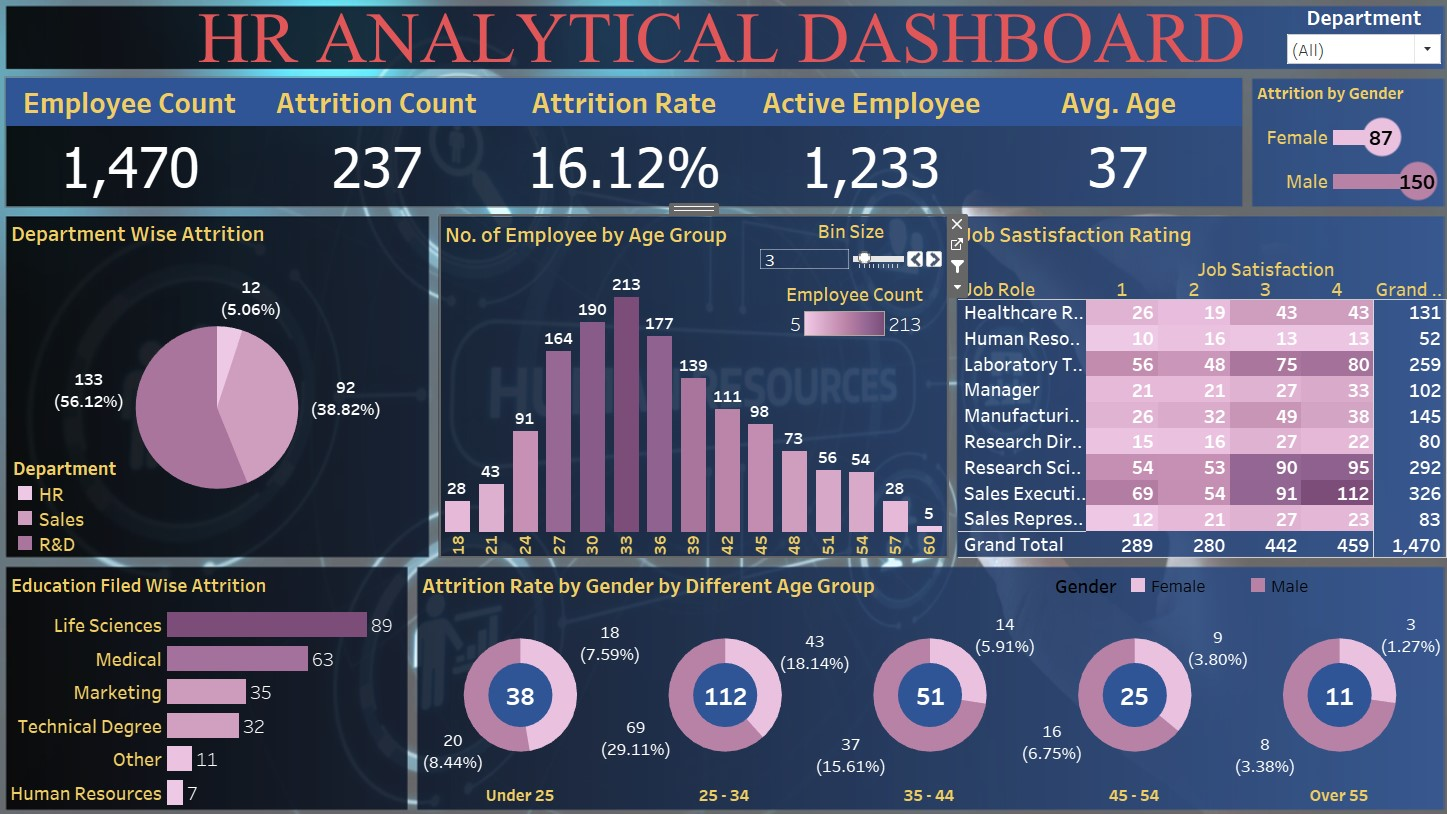

The page's visual inventory and layout, read from the dashboard file:
{"tool":"tableau","page":{"name":"HR Analytics Dashboard","canvas":[1000,1000],"units":"permille","ordinal":0},"visuals":[{"type":"image","param":"Image/HR background.pptx.png","box":[5.2,9.5,989.7,981]},{"type":"filter","title":"Department Wise Attrition","param":"[federated.05d4qr10fj6lfu1ddp616001y1a2].[none:Department:nk]","box":[860.6,17.9,103.2,76.2]},{"type":"text","box":[33.5,23.8,928.4,70.2]},{"type":"worksheet","title":"KPI","mark":"Automatic","box":[36.1,107.1,797.4,152.4]},{"type":"worksheet","title":"Attribution by Gender","mark":"Automatic","rows":["Gender"],"cols":["Calculation_688769285101289472","Calculation_688769285101289472"],"box":[840.6,107.1,121.9,148.8]},{"type":"worksheet","title":"Department Wise Attrition","mark":"Pie","box":[36.8,270.2,271,407.1]},{"type":"worksheet","title":"No. of Employee by Age Group","mark":"Automatic","rows":["Employee Count"],"cols":["Age (bin)"],"box":[316.8,271.4,326.4,404.8]},{"type":"worksheet","title":"Job Sastisfaction Rating","mark":"Square","rows":["Job Role"],"cols":["Job Satisfaction"],"box":[650.3,271.4,314.8,407.1]},{"type":"parameter","param":"[Parameters].[Parameter 1]","box":[520.6,273.8,121.3,66.7]},{"type":"legend","title":"No. of Employee by Age Group","param":"[federated.05d4qr10fj6lfu1ddp616001y1a2].[sum:Employee Count:qk]","box":[539.4,348.8,90.3,77.4]},{"type":"legend","title":"Department Wise Attrition","param":"[federated.05d4qr10fj6lfu1ddp616001y1a2].[none:Department:nk]","box":[40.6,556,90.3,120.2]},{"type":"worksheet","title":"Attrition Rate by Gender by Different Age Group","mark":"Pie","rows":["Calculation_1037235306553081859","Calculation_1037235306553081859"],"cols":["CF_age band"],"box":[301.9,689.3,660.6,285.7]},{"type":"worksheet","title":"Education Filed Wise Attrition","mark":"Automatic","rows":["Education Field"],"cols":["Calculation_688769285101289472"],"box":[36.8,690.5,258.1,286.9]},{"type":"legend","title":"Attrition Rate by Gender by Different Age Group","param":"[federated.05d4qr10fj6lfu1ddp616001y1a2].[none:Gender:nk]","box":[712.9,697.6,216.8,42.9]}]}

Visuals, with their boxes on the dashboard's canvas, which has no fixed pixel size, in thousandths of its width and height (x1, y1, x2, y2). These are canvas units, not pixel positions in the 1447x814 screenshot, which may show the page scaled, cropped or inside an application window:
image: (x1=5, y1=10, x2=995, y2=990)
"Department Wise Attrition" filter: (x1=861, y1=18, x2=964, y2=94)
text: (x1=34, y1=24, x2=962, y2=94)
"KPI" worksheet: (x1=36, y1=107, x2=834, y2=260)
"Attribution by Gender" worksheet: (x1=841, y1=107, x2=962, y2=256)
"Department Wise Attrition" worksheet (Pie marks): (x1=37, y1=270, x2=308, y2=677)
"No. of Employee by Age Group" worksheet: (x1=317, y1=271, x2=643, y2=676)
"Job Sastisfaction Rating" worksheet (Square marks): (x1=650, y1=271, x2=965, y2=678)
parameter: (x1=521, y1=274, x2=642, y2=340)
"No. of Employee by Age Group" legend: (x1=539, y1=349, x2=630, y2=426)
"Department Wise Attrition" legend: (x1=41, y1=556, x2=131, y2=676)
"Attrition Rate by Gender by Different Age Group" worksheet (Pie marks): (x1=302, y1=689, x2=962, y2=975)
"Education Filed Wise Attrition" worksheet: (x1=37, y1=690, x2=295, y2=977)
"Attrition Rate by Gender by Different Age Group" legend: (x1=713, y1=698, x2=930, y2=740)
